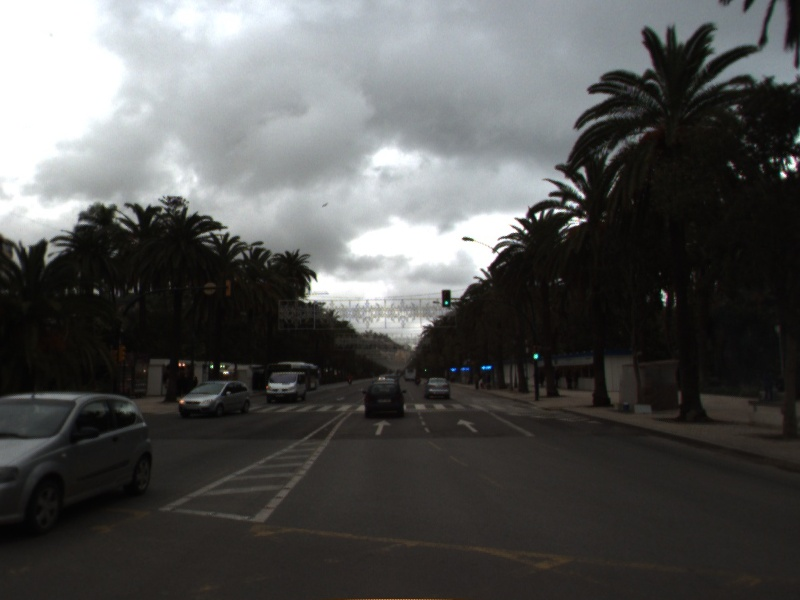STRAIGHT: (454, 417, 481, 434), (370, 418, 394, 437)
